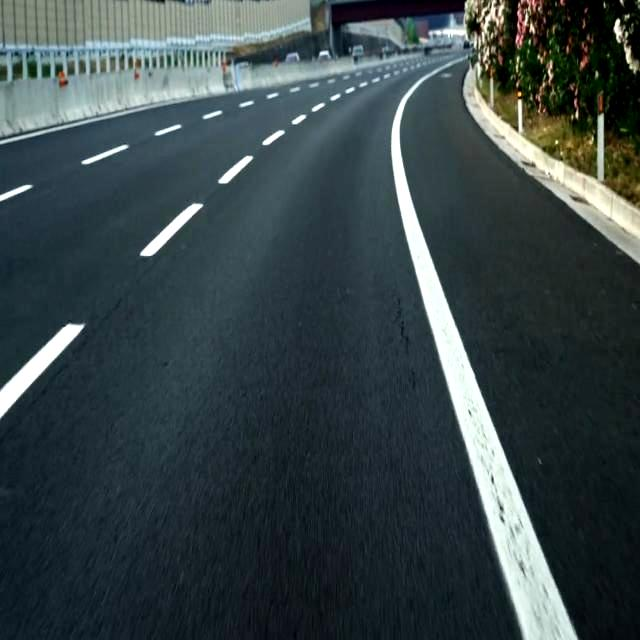lane: (391, 60, 578, 639), (0, 324, 83, 418), (140, 204, 202, 256), (218, 155, 252, 183), (81, 146, 129, 164), (1, 185, 32, 202)
road: (0, 65, 521, 639), (401, 64, 639, 639)
